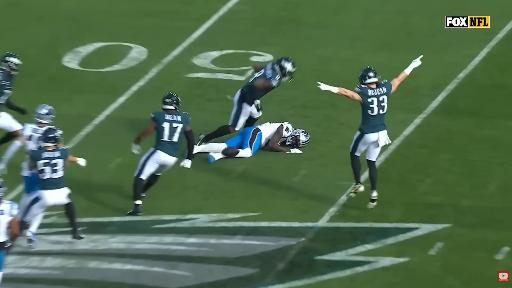Helmet: (280, 129, 309, 147), (275, 57, 295, 81), (0, 53, 22, 74), (41, 127, 62, 146), (34, 104, 54, 123), (359, 67, 378, 85), (162, 92, 180, 110)
Jersey: (355, 80, 391, 133), (152, 111, 190, 157), (241, 63, 281, 105), (30, 147, 68, 190), (21, 124, 48, 176), (257, 122, 293, 147), (0, 201, 18, 242), (0, 70, 13, 110)
Player: (318, 56, 422, 208), (198, 57, 295, 145), (127, 92, 194, 215), (17, 126, 86, 239), (194, 123, 309, 163), (0, 104, 54, 173), (20, 104, 54, 209), (0, 53, 26, 145), (0, 179, 19, 283)
